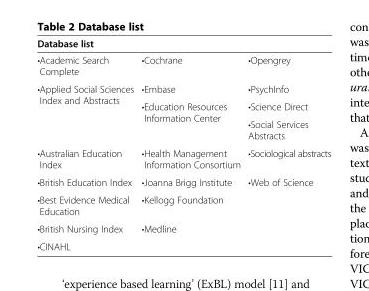table: (36, 37, 330, 251)
table column: (137, 37, 243, 251), (36, 37, 137, 251), (243, 37, 330, 251)
table column header: (36, 37, 330, 79)
table row: (36, 115, 330, 144), (36, 144, 330, 173), (36, 190, 330, 219), (36, 51, 330, 79), (36, 79, 330, 97), (36, 97, 330, 115), (36, 219, 330, 237), (36, 173, 330, 190), (36, 37, 330, 51), (36, 237, 330, 251)
table spanning cell: (243, 173, 330, 251), (36, 79, 137, 144), (137, 97, 243, 144), (36, 37, 330, 51)
